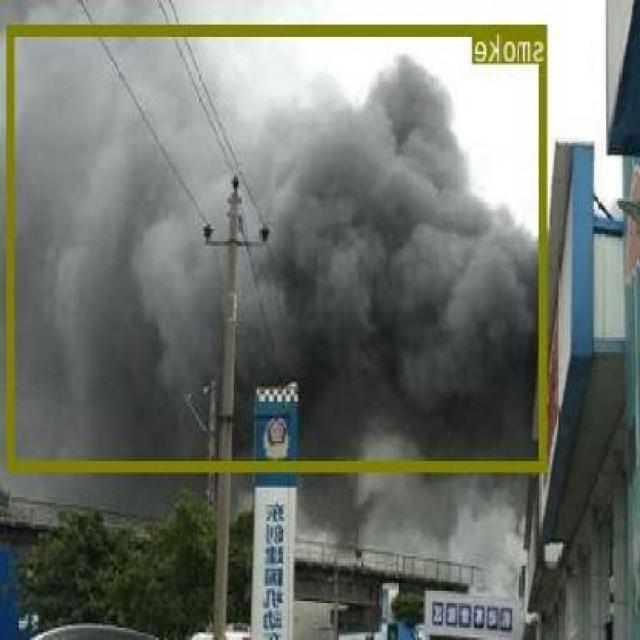Smoke: (9, 24, 548, 468)
